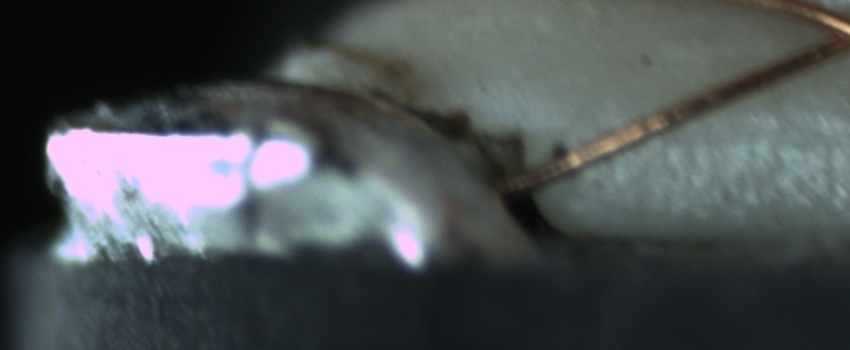CL: (798, 4, 850, 64)
DL: (677, 98, 848, 162)
